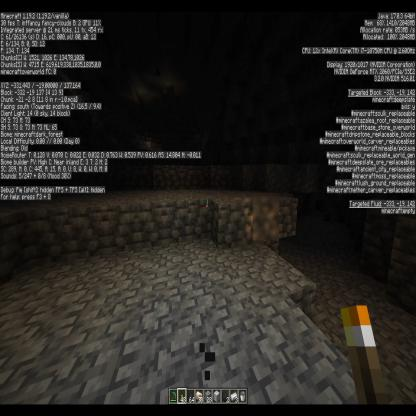iron ore: (234, 194, 262, 250), (254, 193, 280, 240)
